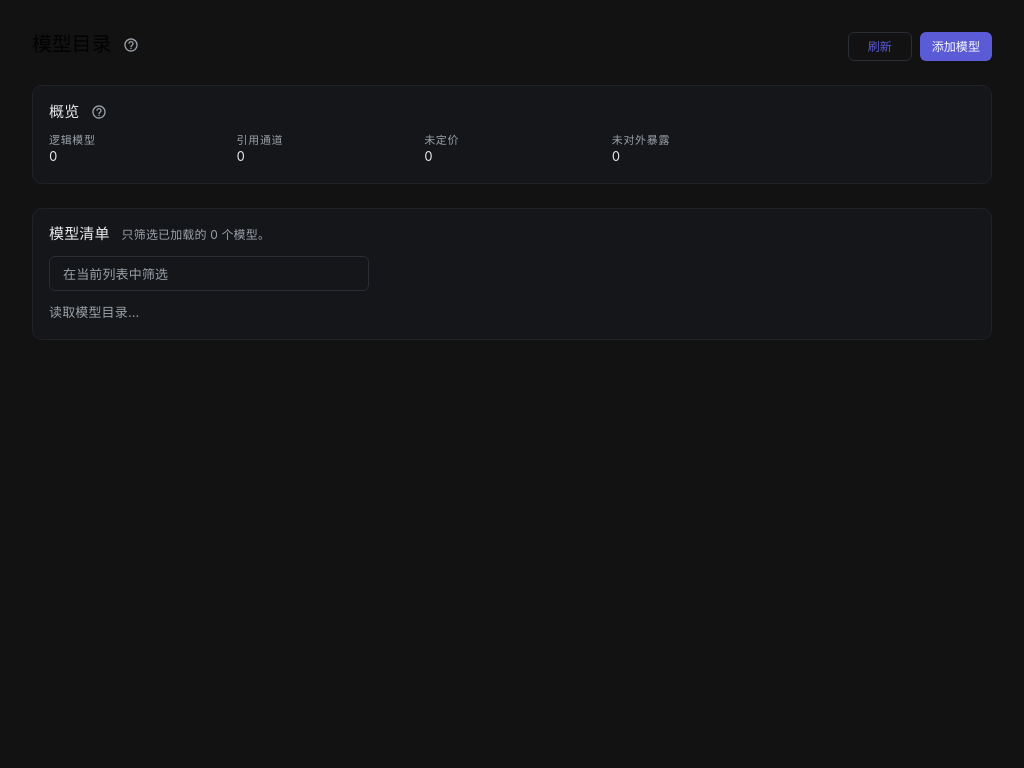
⑧ /models 添加模型向导：先分配线路 → 真的调 model_upsert → 显示后端返回值 › 选线路 = 按服务商分组 + 可收起 + 只列打开的线路（已选中的即使关闭也留着）
The width and height of the screenshot is (1024, 768).
Click the button with test id "models-add-open": coordinates (956, 47) left=920, top=32, right=992, bottom=61
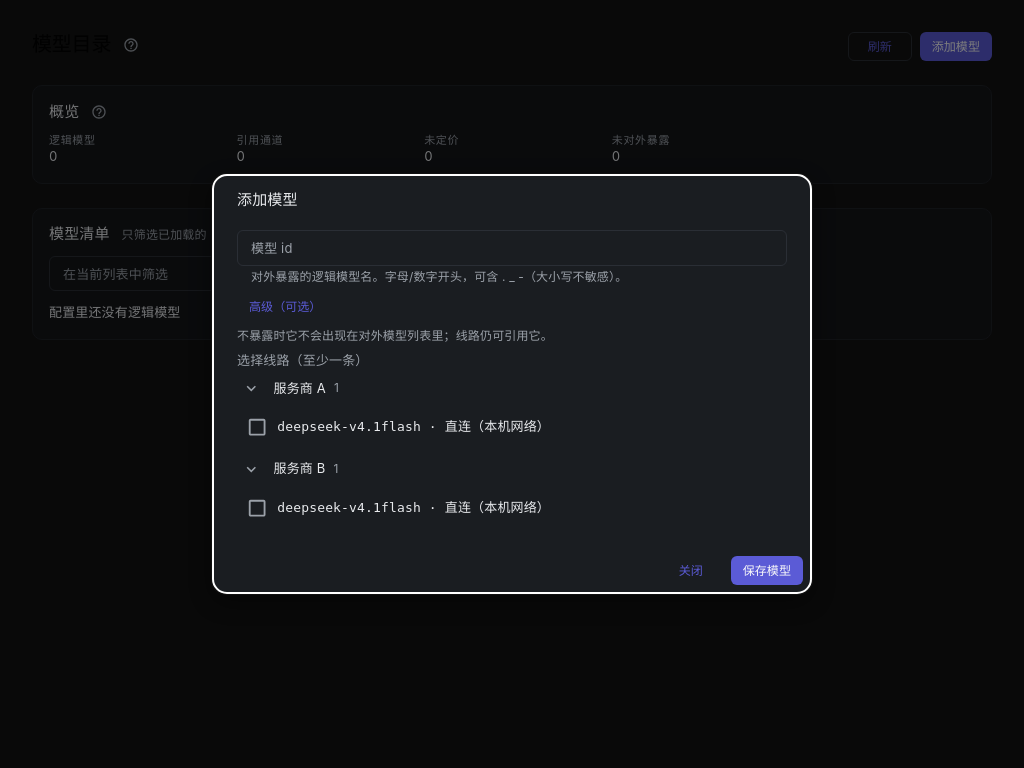
Expected: the number of elements with test id "models-add-line-group" is 2, left=237, top=374, right=550, bottom=438; left=237, top=455, right=550, bottom=519
Expected: the element with test id "models-add-line-ch-open-a" is shown, left=246, top=416, right=268, bottom=438
Expected: the element with test id "models-add-line-ch-open-b" is shown, left=246, top=496, right=268, bottom=519
Click the button with test id "models-add-line-group-toggle" next to "服务商 A": coordinates (251, 388) left=237, top=374, right=266, bottom=403
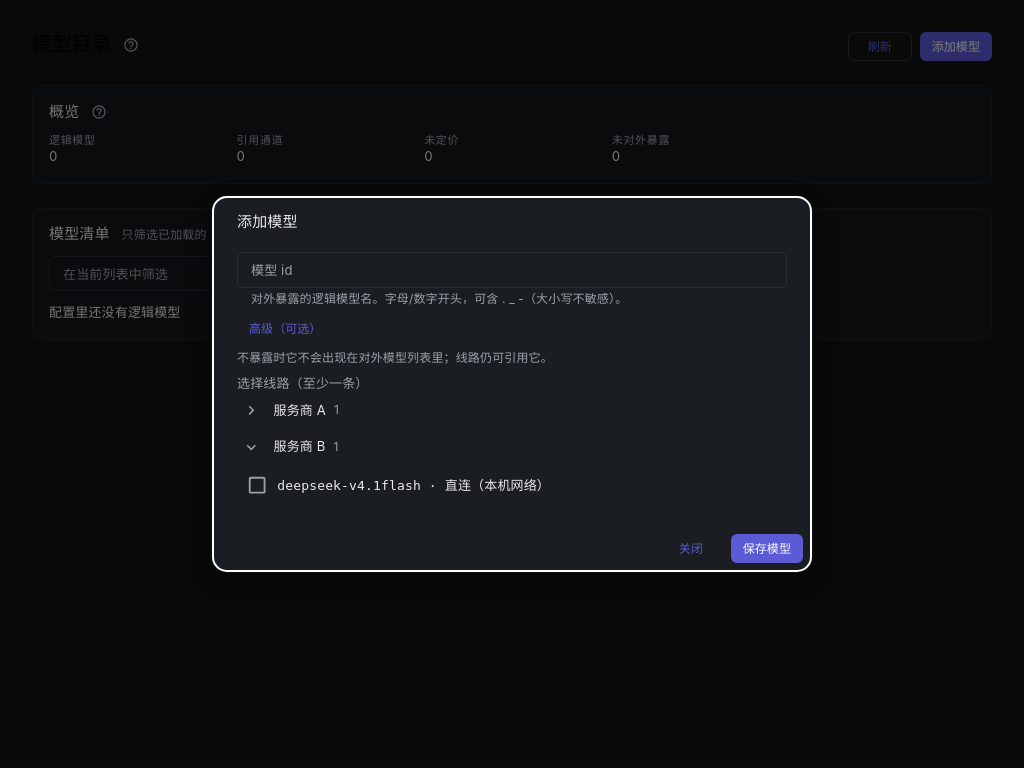
Expected: the element with test id "models-add-line-ch-open-b" is shown, left=246, top=474, right=268, bottom=497
Expected: the element with test id "models-add-line-ch-open-a" is gone
Click the button with test id "models-add-line-group-toggle" next to "服务商 A": coordinates (251, 411) left=237, top=396, right=266, bottom=425
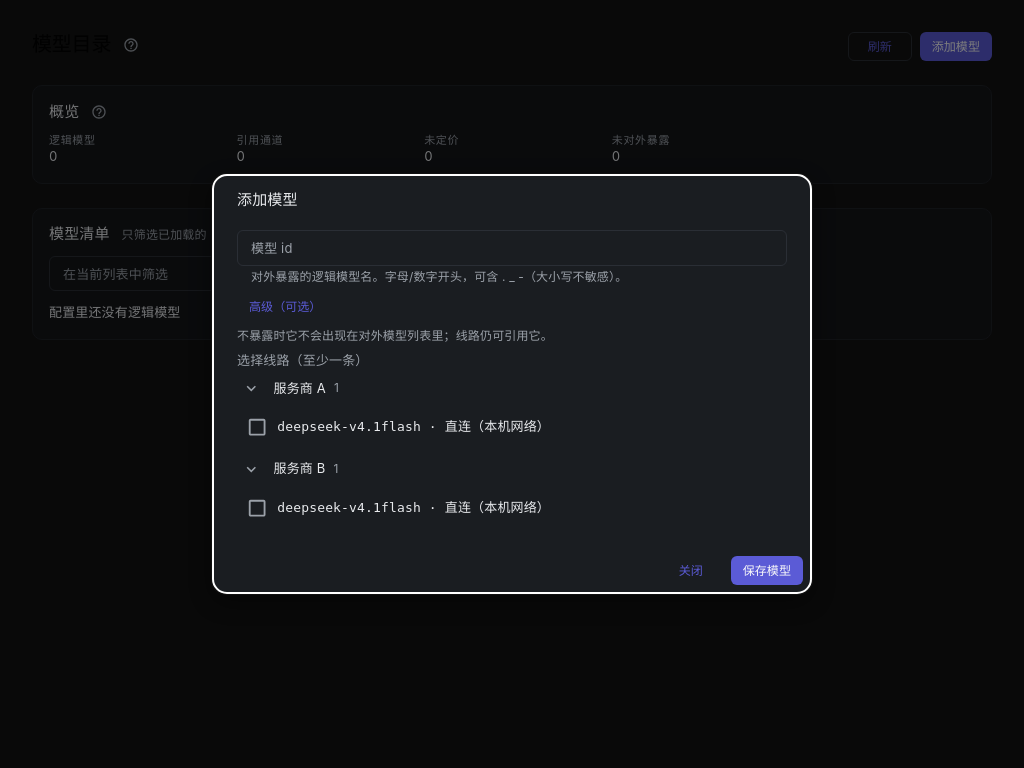
Expected: the element with test id "models-add-line-ch-open-a" is shown, left=246, top=416, right=268, bottom=438
